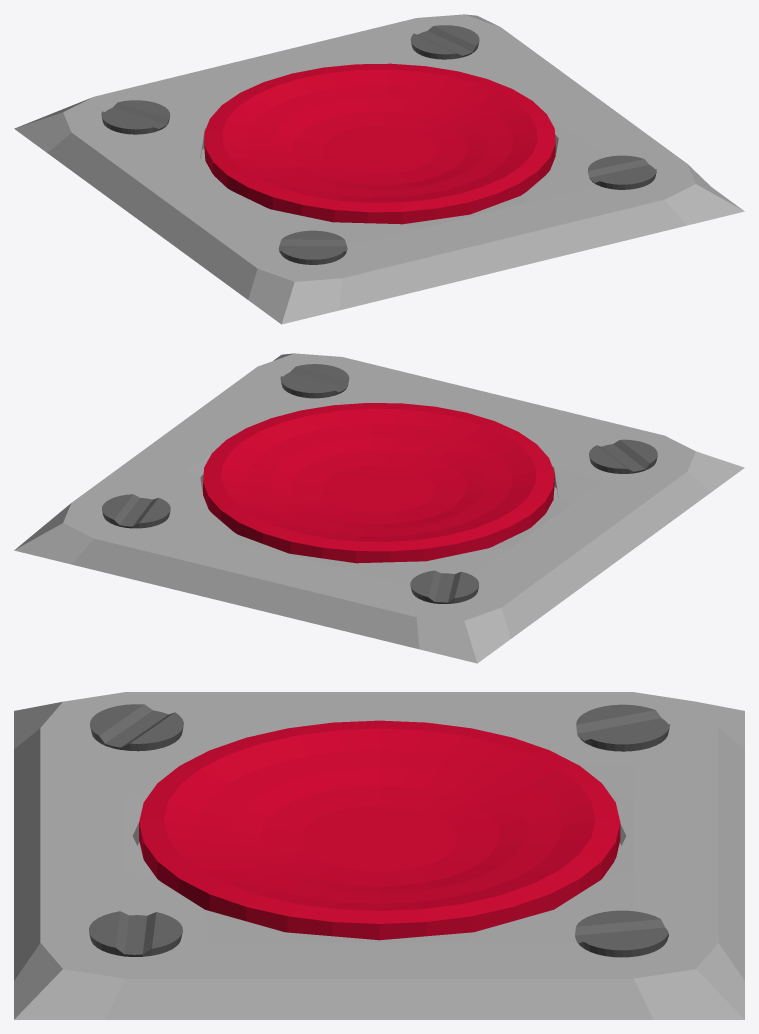
The model's file is props.fbx_b14.fbx.
The picture shows the model from 3 angles, top to bottom: view 1: azimuth 30°, elevation 25°; view 2: azimuth 150°, elevation 25°; view 3: azimuth 270°, elevation 25°; orthographic projection. The views are drawn at different scales.
Visible parts, largest first — view 1: Plane.016, Circle.017, Circle.019; view 2: Plane.016, Circle.017, Circle.019; view 3: Plane.016, Circle.017, Circle.019.
Boxes of the visible parts, x1,y1,x2,y2 form: Plane.016: [14, 14, 744, 324]; Circle.017: [204, 63, 555, 224]; Circle.019: [101, 25, 656, 264]; Plane.016: [14, 353, 744, 663]; Circle.017: [203, 403, 554, 563]; Circle.019: [102, 364, 657, 603]; Plane.016: [14, 692, 744, 1019]; Circle.017: [139, 720, 620, 940]; Circle.019: [89, 704, 670, 957].
Size of the model in its own units: 1.3 by 0.0907 by 1.3.
